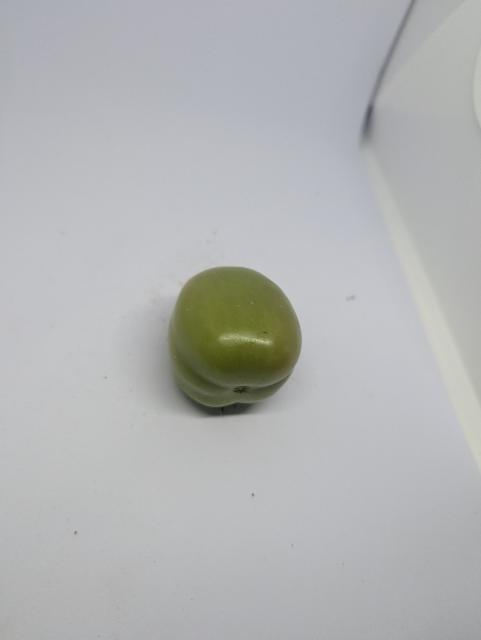green: (156, 243, 319, 427)
